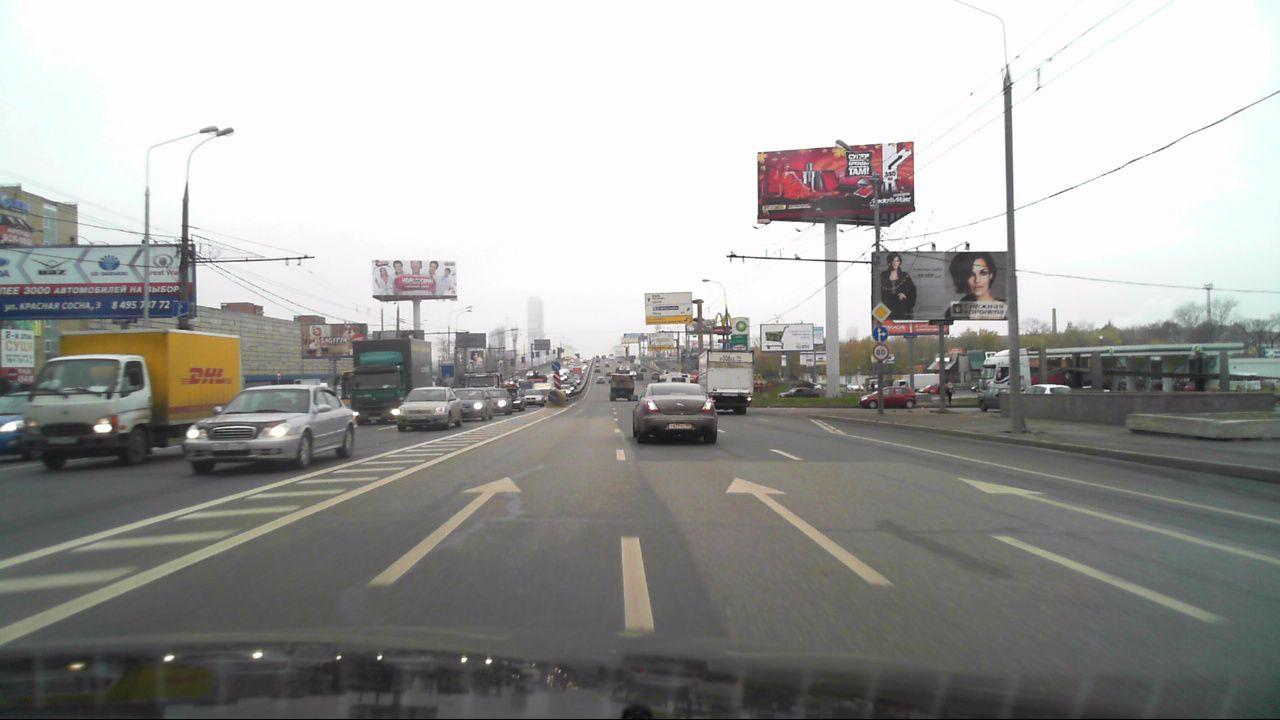road_sign: (870, 300, 892, 324), (871, 326, 889, 342), (873, 343, 888, 360)
